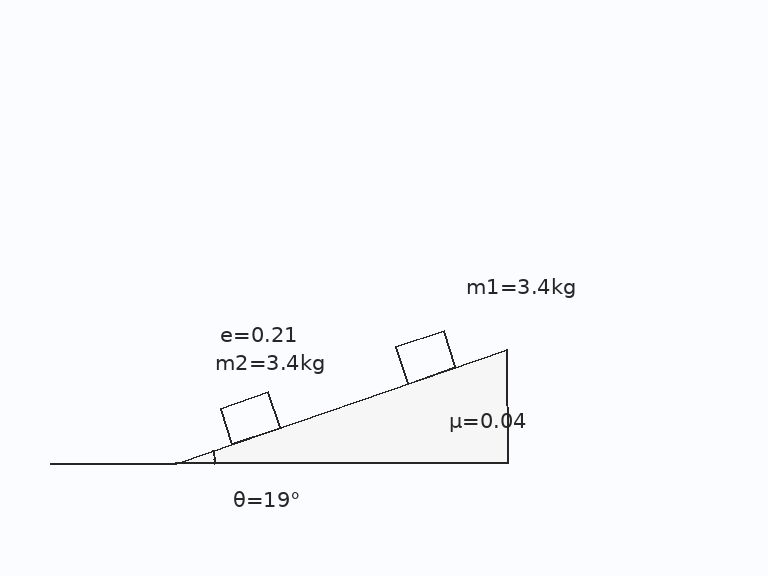block: (393, 329, 458, 385), (217, 390, 282, 446)
ramp: (173, 347, 509, 465)
